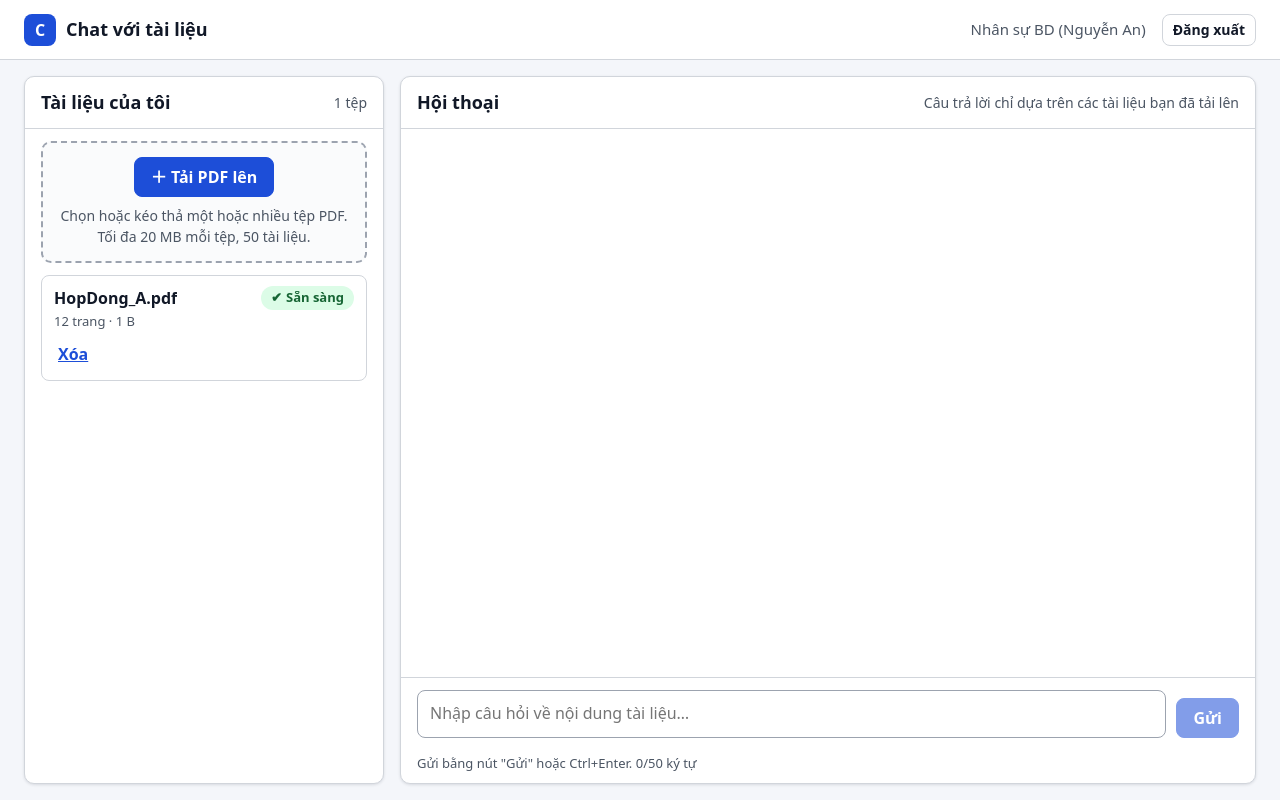
Test: Hỏi đáp › nội dung có <script> hiển thị nguyên văn, không thực thi
Type "Câu hỏi?" into the text box labelled "Câu hỏi của bạn". click: (792, 714)
box: [417,690,1166,738]
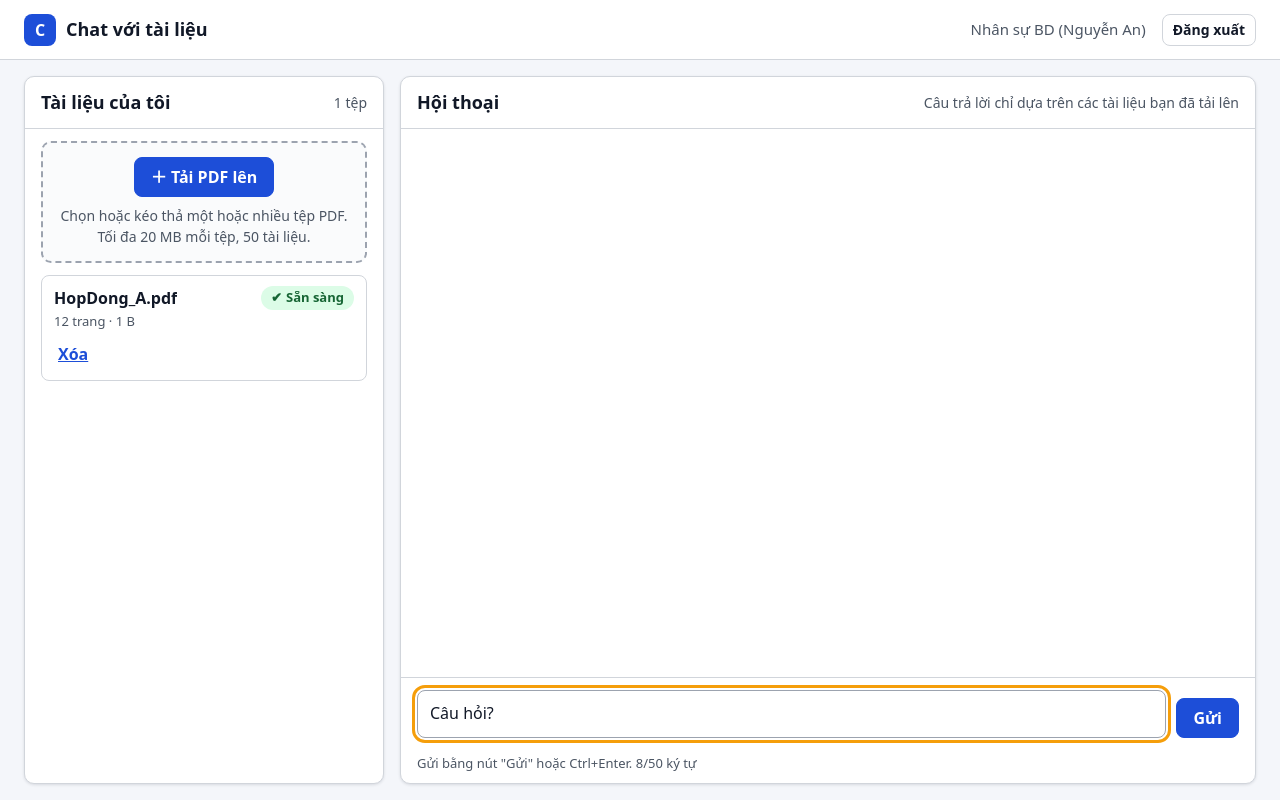
Click the button "Gửi". click: (1208, 718)
box: [1176,698,1239,738]
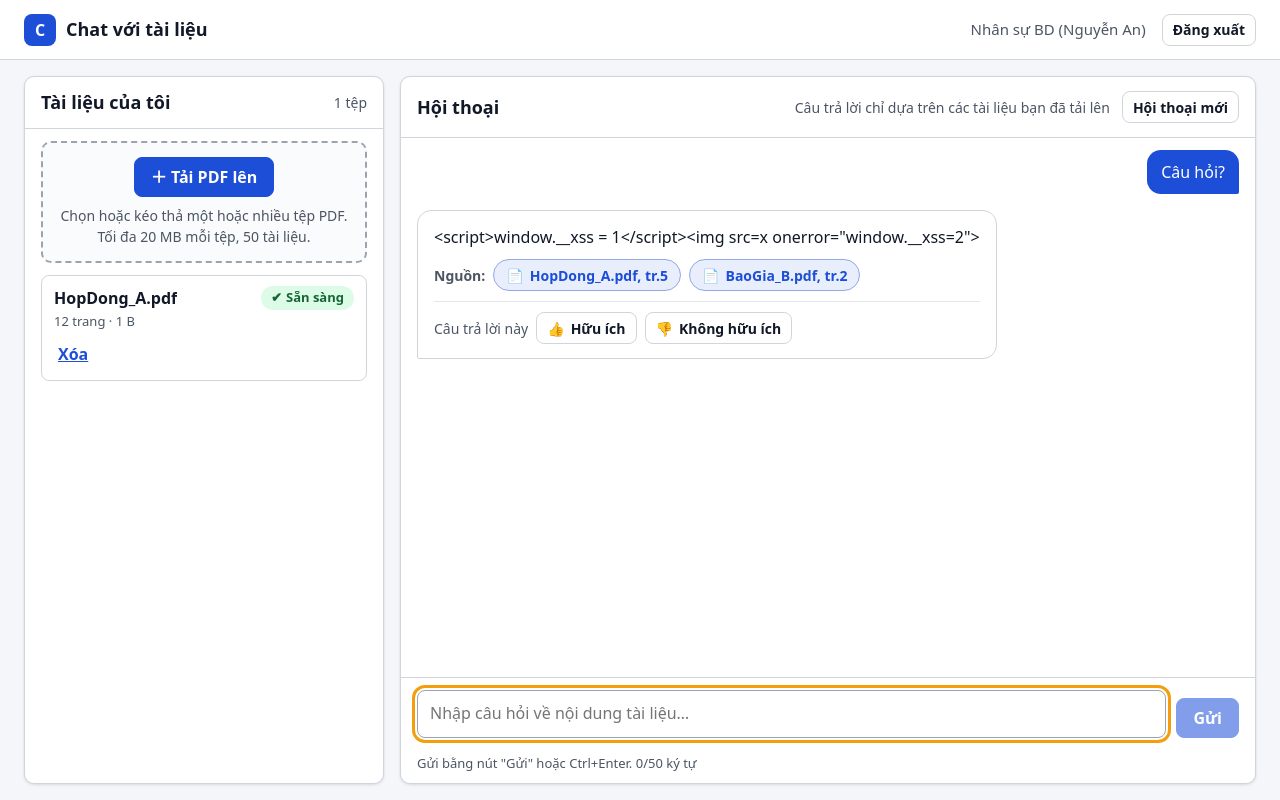
Check: the element named "Câu trả lời" shows "<script>window.__xss = 1</script><img src=x onerror=\"window.__xss=2\">", box [434,226,980,248]
